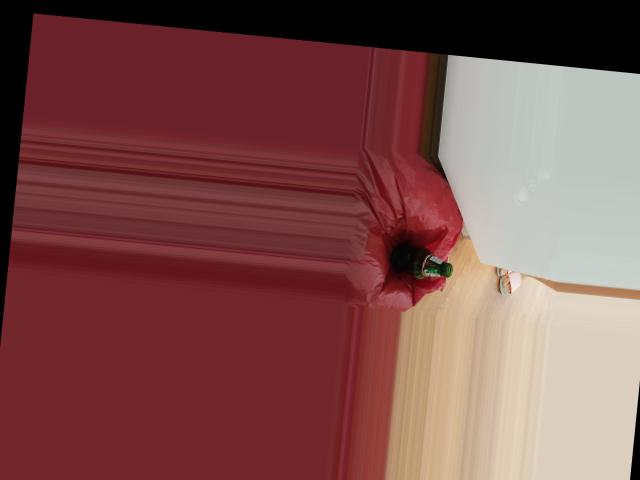beer: (388, 241, 454, 281)
